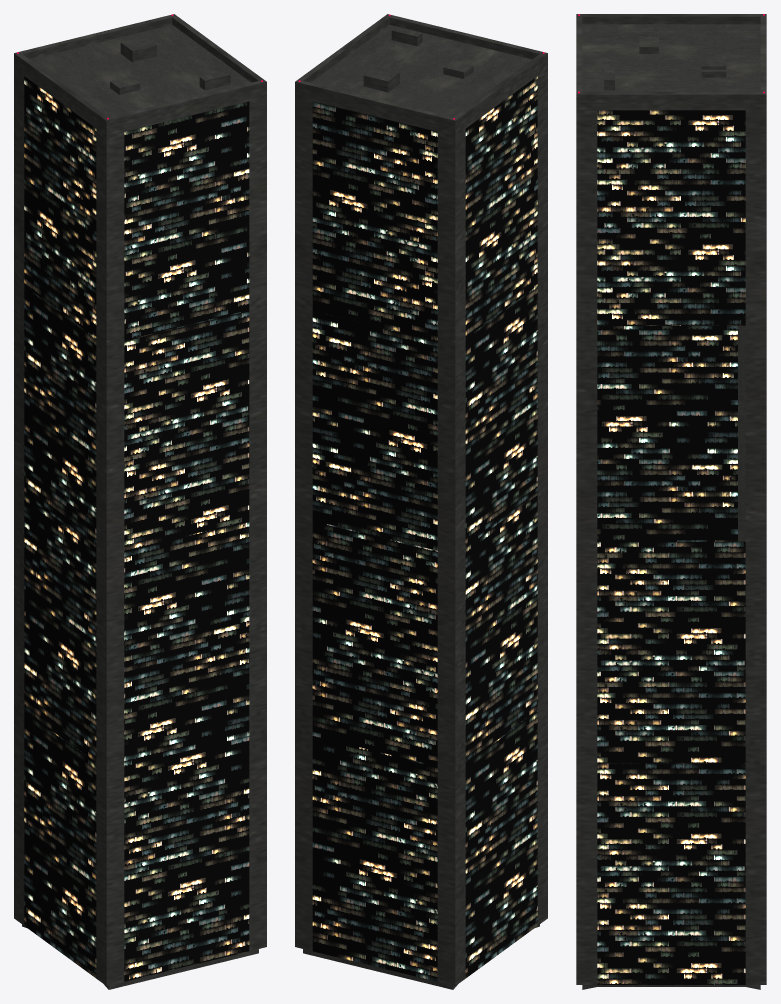
Rendered from elegant-skyscraper2.glb.
The picture shows the model from 3 angles, left to right: view 1: azimuth 30°, elevation 25°; view 2: azimuth 150°, elevation 25°; view 3: azimuth 270°, elevation 25°; orthographic projection. The views are drawn at different scales.
Parts seen in each view (by area): view 1: elegant-skyscraper; view 2: elegant-skyscraper; view 3: elegant-skyscraper.
Part boxes in pixels (x1,y1,x2,y2): elegant-skyscraper: [14, 14, 266, 989]; elegant-skyscraper: [295, 14, 547, 989]; elegant-skyscraper: [576, 14, 766, 989].
Bounding box in the file's own units: 54.08 × 282 × 54.08.
2 materials, 1 textured.
